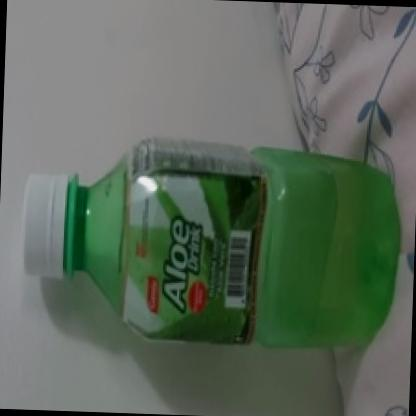plastic_bottles: (15, 124, 405, 362)
